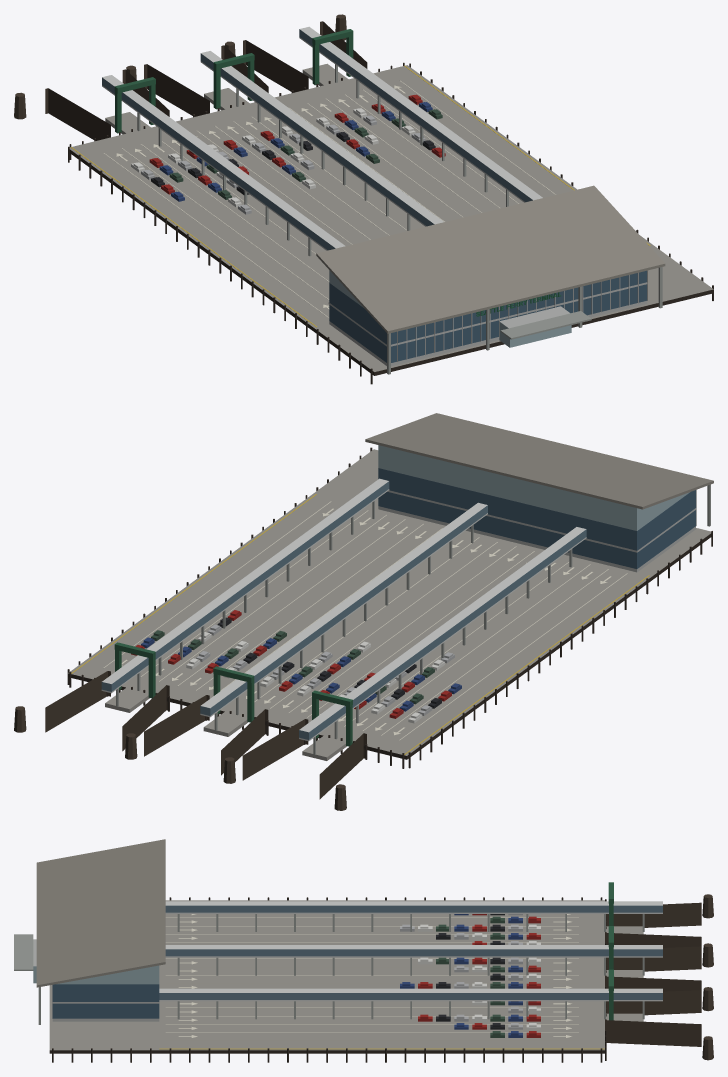
File: colman_dock.glb
3 views of the same model, one above another, from view 1: azimuth 30°, elevation 25°; view 2: azimuth 150°, elevation 25°; view 3: azimuth 270°, elevation 25° (orthographic). The views are drawn at different scales.
Parts seen in each view (by area): view 1: colman_dock; view 2: colman_dock; view 3: colman_dock.
Part boxes in pixels (bbox=[...]): colman_dock: bbox=[14, 14, 713, 384]; colman_dock: bbox=[14, 413, 713, 810]; colman_dock: bbox=[14, 839, 713, 1062].
Size of the model in its own units: 111 by 25.8 by 217.
Materials: 1 (1 with a texture image).
